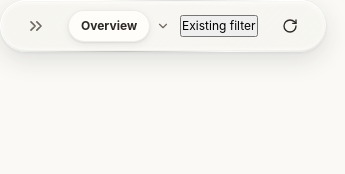
Test: DashboardToolbar › toggles from the arrow with touch when blur has no focus target
The width and height of the screenshot is (345, 174).
Click the 2nd icon at [163, 26], box [156,19,170,33]
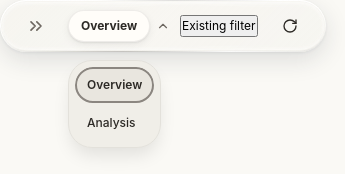
Result: the button "Overview" is expanded at [68,4,170,48]
Press the mouse on the 2nd icon at [163, 26], box [156,19,170,33]
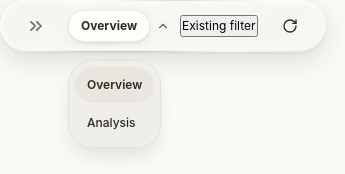
Click the 2nd icon at [163, 26], box [156,19,170,33]
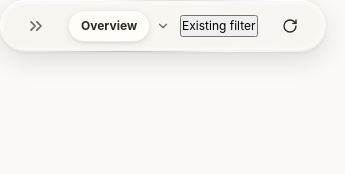
Result: the button "Overview" is collapsed at [68,4,170,48]
